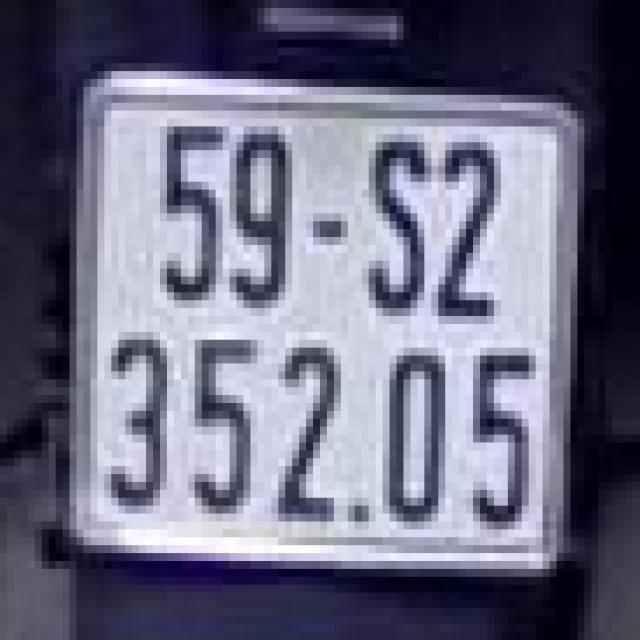0: (379, 340, 456, 529)
2: (271, 332, 341, 537), (435, 122, 504, 328)
3: (101, 316, 170, 522)
5: (184, 320, 268, 525), (466, 340, 543, 537), (157, 119, 226, 308)
9: (223, 119, 299, 308)
S: (358, 126, 435, 324)
